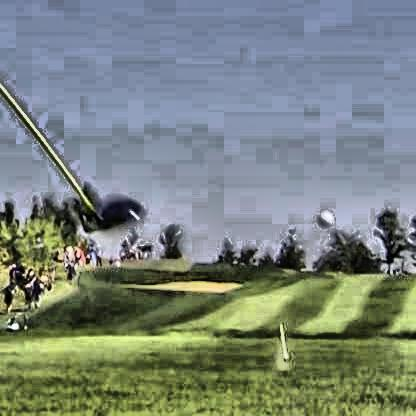golfball: (314, 207, 331, 225)
